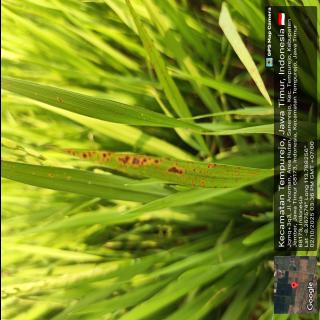bercak-Cokelat: (165, 158, 221, 188), (65, 149, 119, 169), (218, 165, 261, 188), (115, 152, 165, 169)
